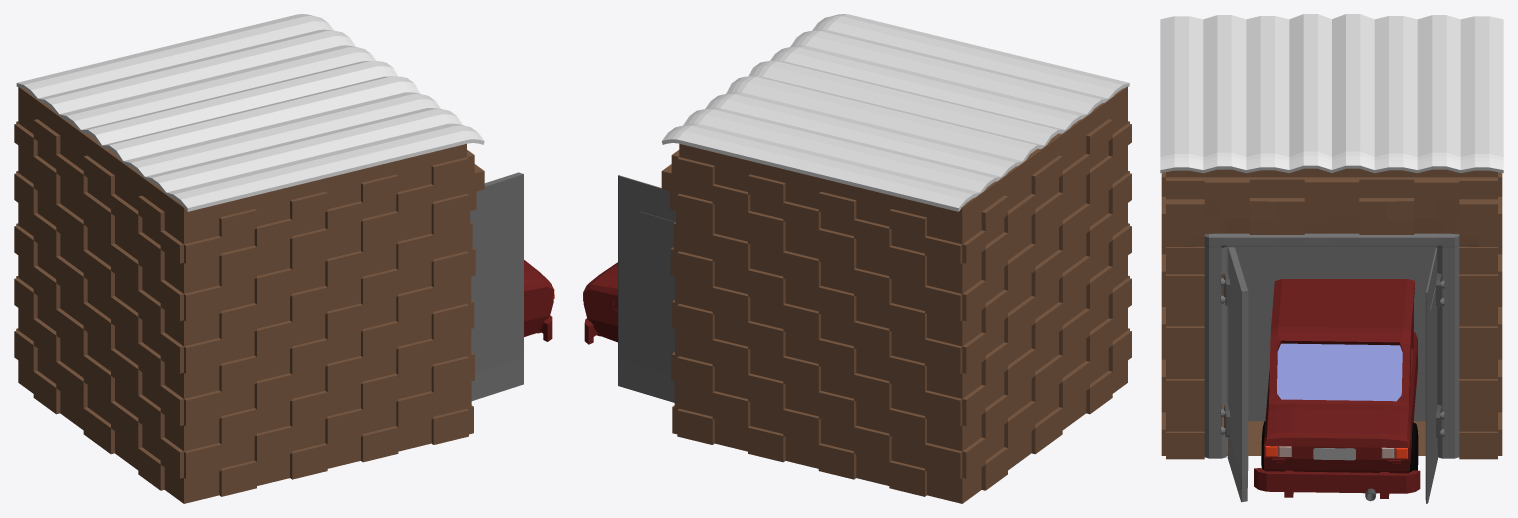
Rendered from garaz 2.fbx.
3 views of the same model, side by side, from view 1: azimuth 30°, elevation 25°; view 2: azimuth 150°, elevation 25°; view 3: azimuth 270°, elevation 25° (orthographic).
Visible parts, largest first — view 1: Cube.004, Cube.003, Cube.011, Cube; view 2: Cube.004, Cube.003, Cube.012, Cube; view 3: Cube.004, Cube.003, Cube, Cube.011, Cube.013, Cube.012, Cube.014, Куб.004, Cube.017, Cube.002.
Boxes of the visible parts, x1,y1,x2,y2 form: Cube.004: (14,86,484,503); Cube.003: (16,14,484,211); Cube.011: (470,172,523,400); Cube: (524,260,553,336); Cube.004: (661,86,1131,503); Cube.003: (661,14,1129,211); Cube.012: (618,175,675,402); Cube: (583,262,617,342); Cube.004: (1161,168,1502,459); Cube.003: (1160,14,1503,173); Cube: (1264,279,1417,473); Cube.011: (1227,247,1248,502); Cube.013: (1254,468,1420,498); Cube.012: (1425,248,1437,503); Cube.014: (1265,446,1407,464); Куб.004: (1313,448,1355,460); Cube.017: (1261,421,1418,472); Cube.002: (1224,272,1230,437).
Bounding box in the file's own units: 306 × 206 × 210.
